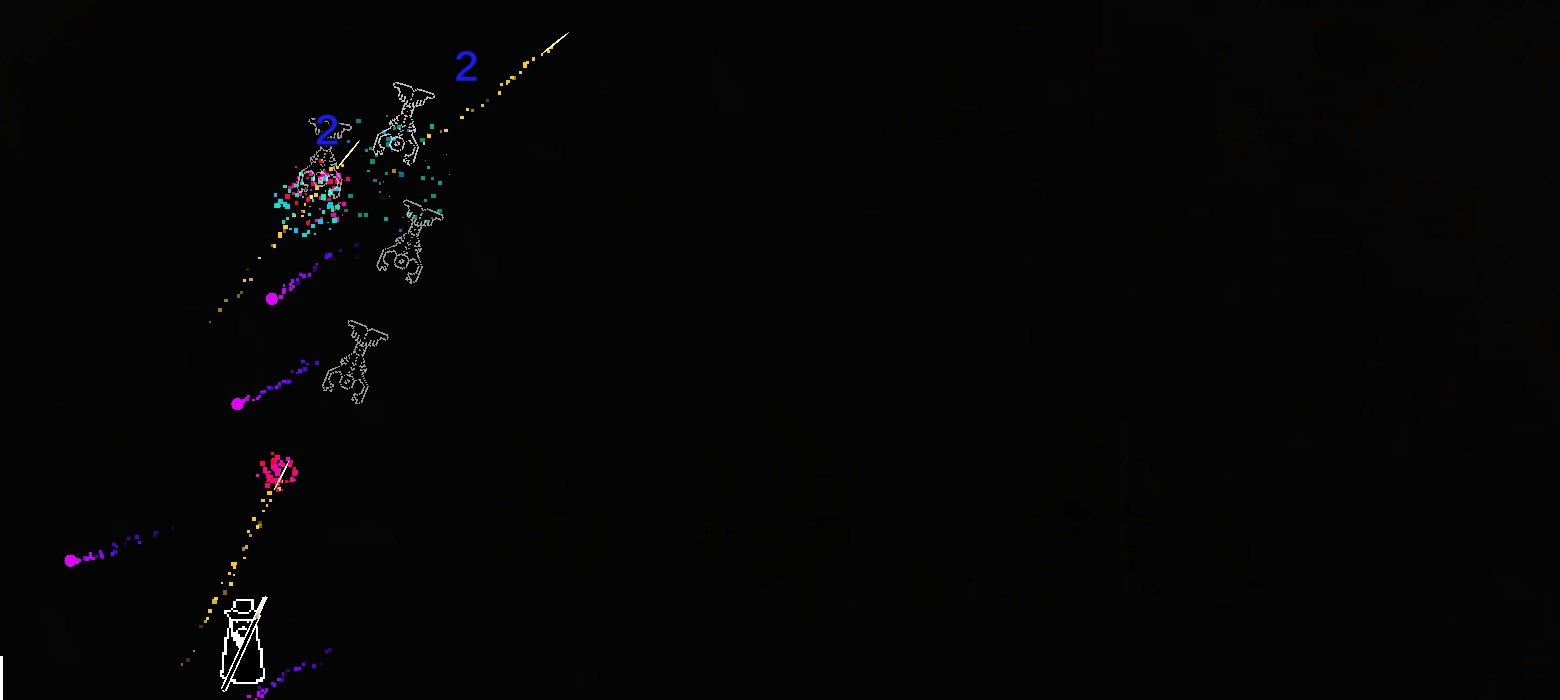enemy: (376, 199, 444, 285), (321, 320, 388, 404), (373, 82, 435, 167), (298, 118, 352, 199)
